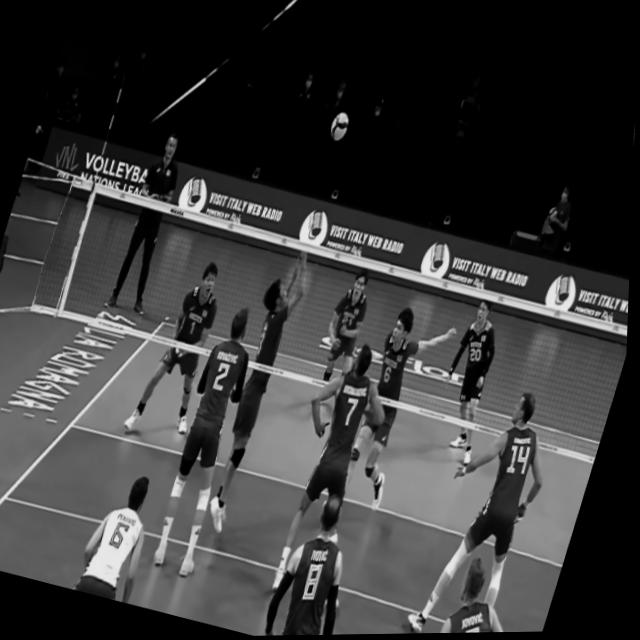player: (253, 339, 407, 615), (409, 382, 569, 635), (147, 301, 275, 586), (202, 246, 318, 530), (332, 304, 465, 521), (128, 255, 239, 444), (261, 484, 379, 637), (425, 293, 519, 466), (75, 465, 175, 606), (311, 265, 384, 399), (432, 549, 539, 635)
